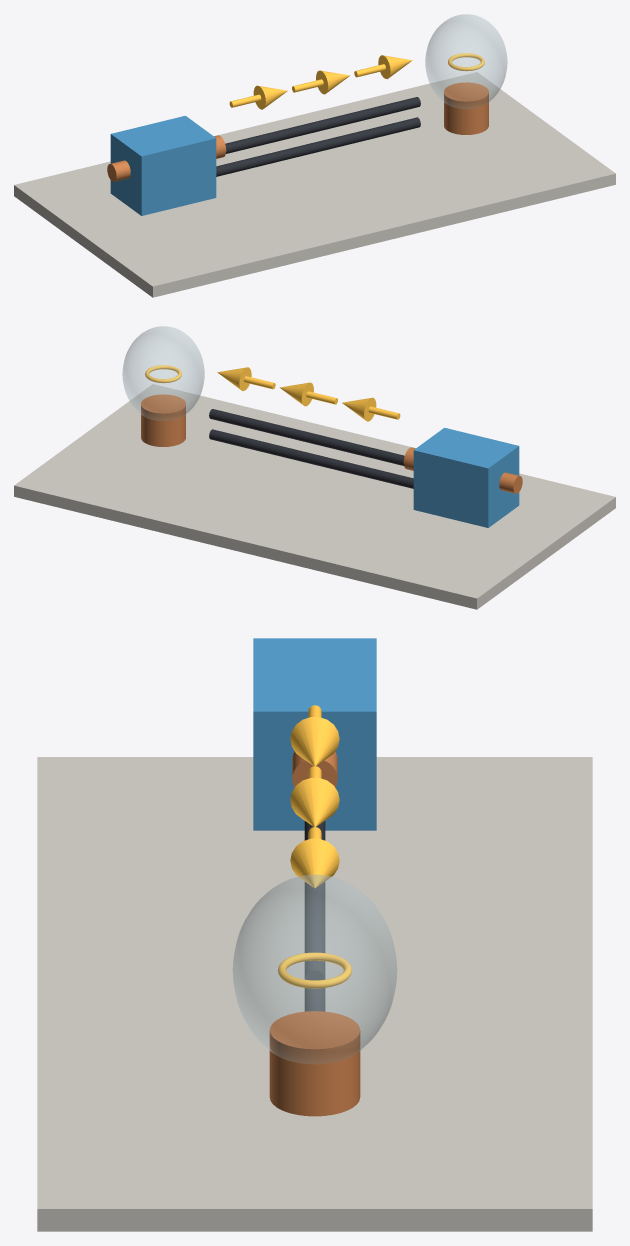
The model's file is physics-electricity-current.glb.
3 renders of one model, top to bottom at view 1: azimuth 30°, elevation 25°; view 2: azimuth 150°, elevation 25°; view 3: azimuth 270°, elevation 25°, orthographic. The views are drawn at different scales.
Parts seen in each view (by area): view 1: circuit-base, battery-case, glass-bulb, wire-bottom, bulb-base, wire-top, current-arrow-1-head, current-arrow-2-head, current-arrow-3-head, negative-terminal; view 2: circuit-base, battery-case, glass-bulb, wire-bottom, bulb-base, wire-top, current-arrow-1-head, current-arrow-2-head, current-arrow-3-head, negative-terminal; view 3: circuit-base, glass-bulb, battery-case, bulb-base, wire-top, current-arrow-3-head, current-arrow-1-head, current-arrow-2-head, glowing-filament, positive-terminal.
Part boxes in pixels (bbox=[...]): circuit-base: bbox=[14, 72, 615, 297]; battery-case: bbox=[110, 115, 216, 215]; glass-bulb: bbox=[425, 14, 507, 108]; wire-bottom: bbox=[216, 117, 420, 176]; bulb-base: bbox=[444, 82, 488, 134]; wire-top: bbox=[225, 97, 420, 153]; current-arrow-1-head: bbox=[253, 85, 287, 109]; current-arrow-2-head: bbox=[316, 70, 350, 94]; current-arrow-3-head: bbox=[378, 55, 412, 79]; negative-terminal: bbox=[107, 160, 130, 181]; circuit-base: bbox=[14, 384, 615, 609]; battery-case: bbox=[413, 427, 519, 527]; glass-bulb: bbox=[122, 326, 204, 420]; wire-bottom: bbox=[209, 429, 413, 488]; bulb-base: bbox=[141, 394, 185, 446]; wire-top: bbox=[209, 409, 404, 465]; current-arrow-1-head: bbox=[342, 397, 376, 421]; current-arrow-2-head: bbox=[279, 382, 313, 406]; current-arrow-3-head: bbox=[217, 367, 251, 391]; negative-terminal: bbox=[499, 472, 522, 493]; circuit-base: bbox=[37, 757, 592, 1231]; glass-bulb: bbox=[232, 874, 397, 1063]; battery-case: bbox=[253, 638, 376, 830]; bulb-base: bbox=[269, 1011, 360, 1116]; wire-top: bbox=[304, 821, 325, 980]; current-arrow-3-head: bbox=[290, 838, 339, 887]; current-arrow-1-head: bbox=[290, 717, 339, 766]; current-arrow-2-head: bbox=[290, 778, 339, 826]; glowing-filament: bbox=[278, 952, 351, 988]; positive-terminal: bbox=[292, 751, 337, 787].
Size of what is drawn, in the model's own units: 2.6 by 0.73 by 1.35.
